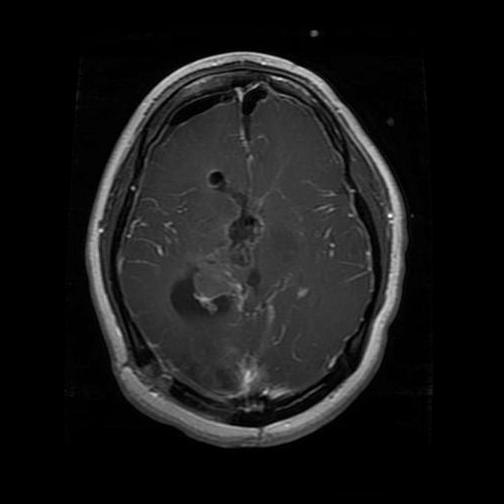Tumour-Glioma: (161, 254, 238, 330)
